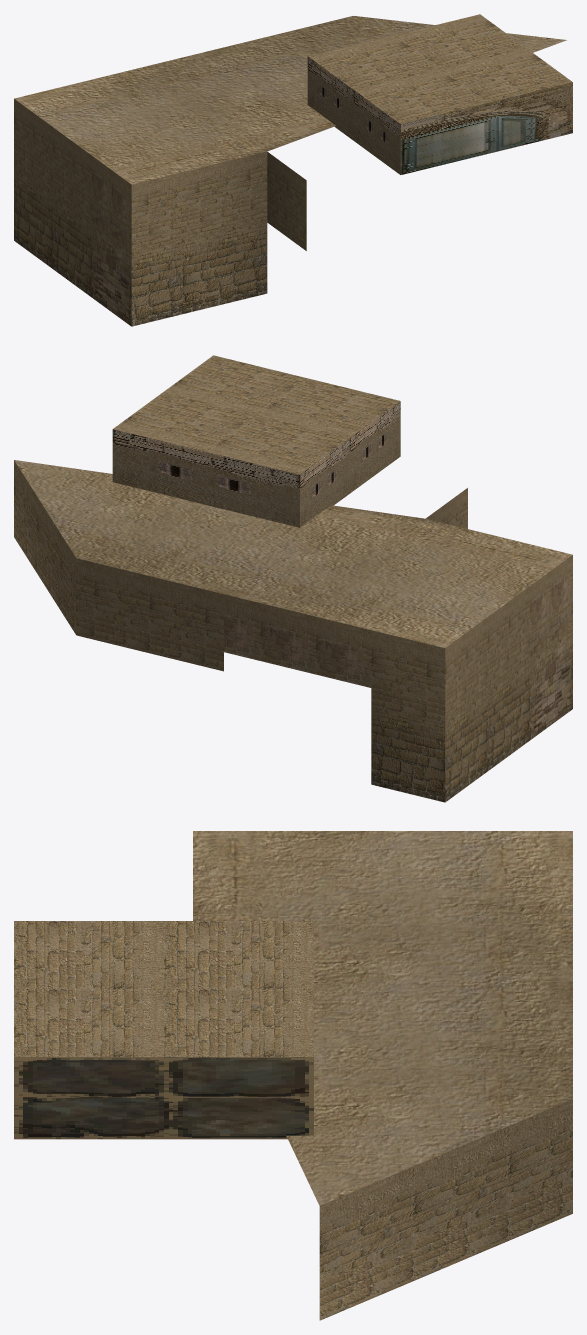
The model's file is M7Z4_FortWall4.glb.
3 views of the same model, one above another, from view 1: azimuth 30°, elevation 25°; view 2: azimuth 150°, elevation 25°; view 3: azimuth 270°, elevation 25° (orthographic). The views are drawn at different scales.
Visible parts, largest first — view 1: M7Z4_FORTWALL4; view 2: M7Z4_FORTWALL4; view 3: M7Z4_FORTWALL4.
Boxes of the visible parts, x1=… form: M7Z4_FORTWALL4: x1=14, y1=14, x2=572, y2=326; M7Z4_FORTWALL4: x1=14, y1=355, x2=572, y2=802; M7Z4_FORTWALL4: x1=14, y1=831, x2=572, y2=1320.
Size of the model in its own units: 28 by 10.75 by 17.65.
8 materials, 8 textured.
